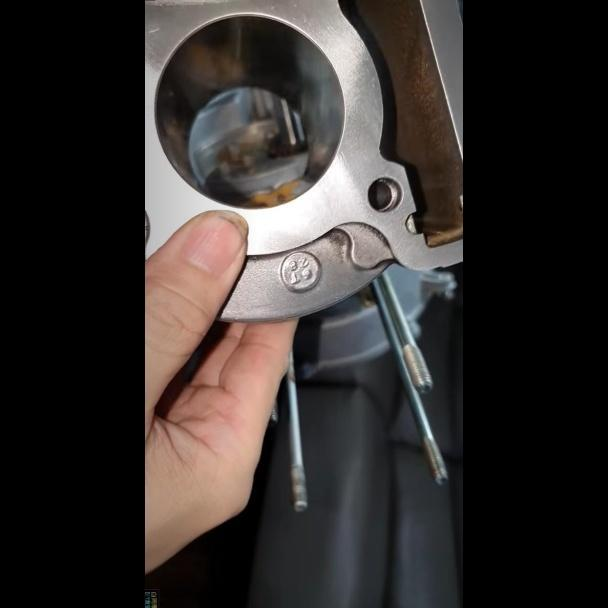hole: (367, 175, 405, 213)
